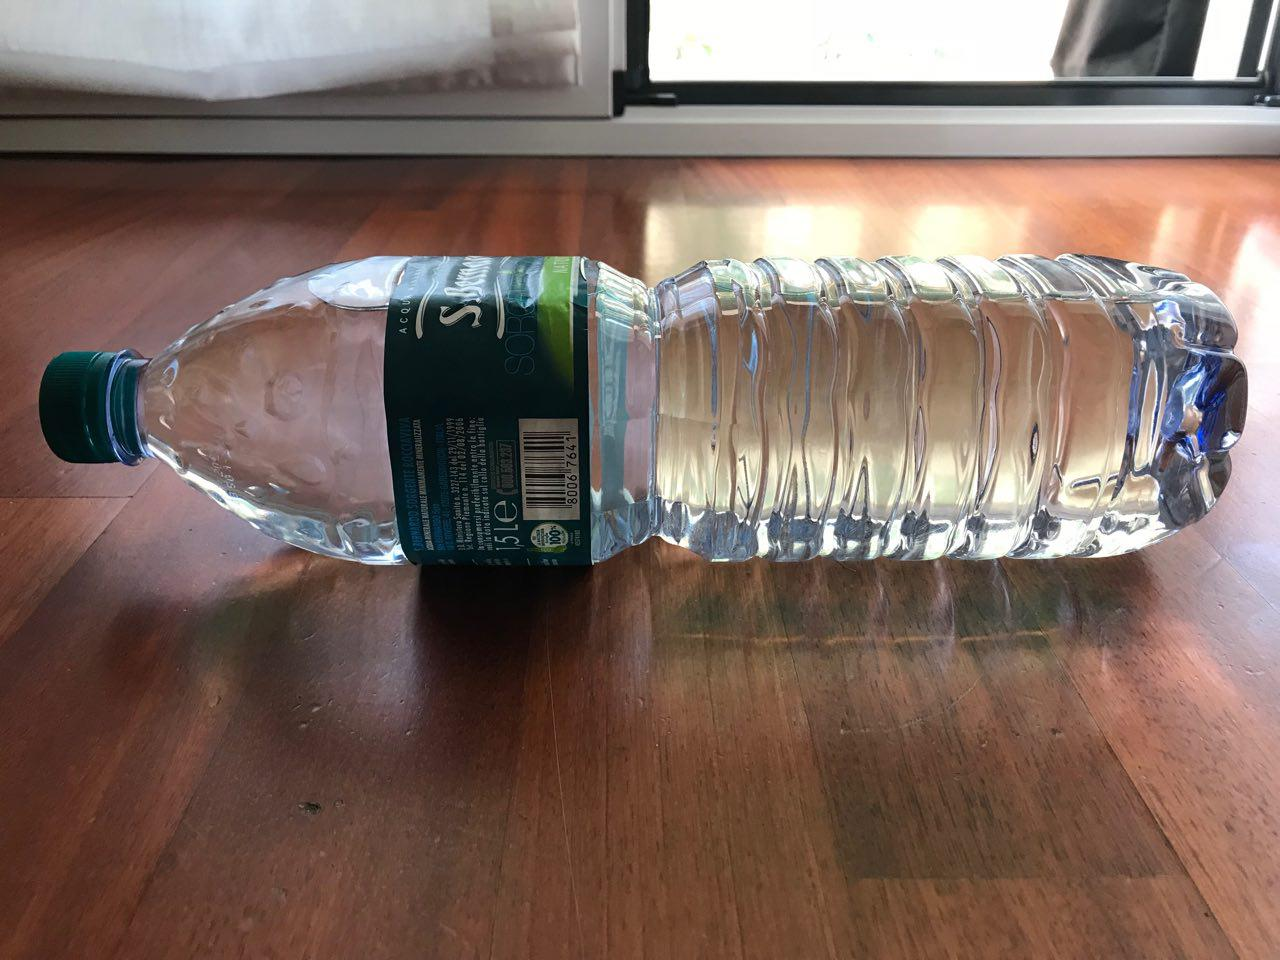san_bernardo: (37, 252, 1251, 571)
